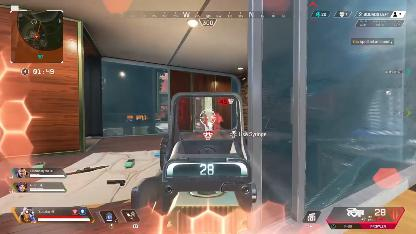Target: (212, 111, 222, 133), (204, 113, 209, 129)
